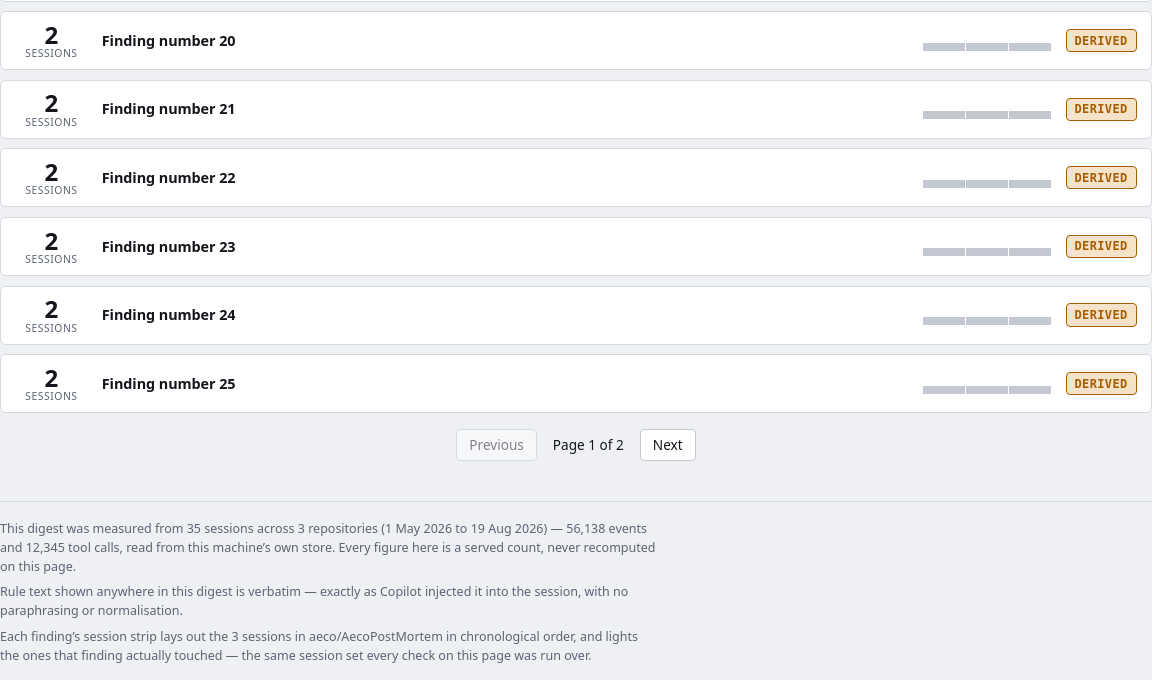
Test: DigestPage › resets to page 1 after applying a new date range
(page scrolled)
Click the button with aria-label "Next page": coordinates (668, 445) [640,429,696,461]
(page scrolled)
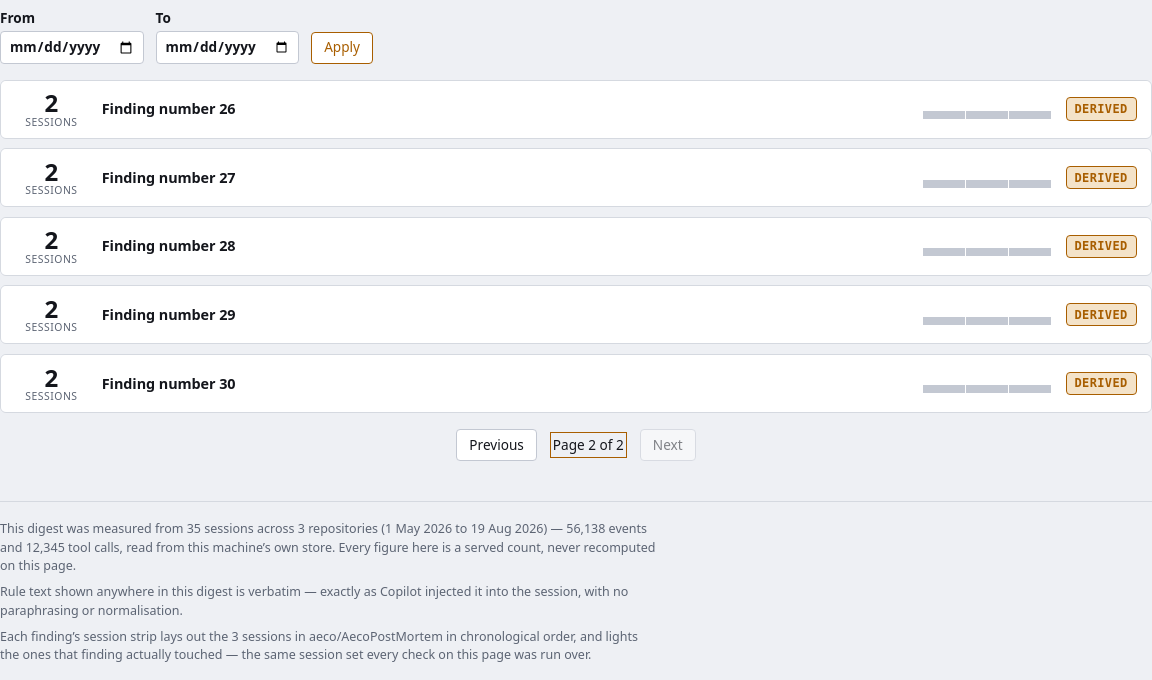
Expected: the text "Page 2 of 2" is shown, [553,435,624,455]
In the date field labelled "From": coordinates (72, 47) [0,31,144,64], type "2026-06-01"
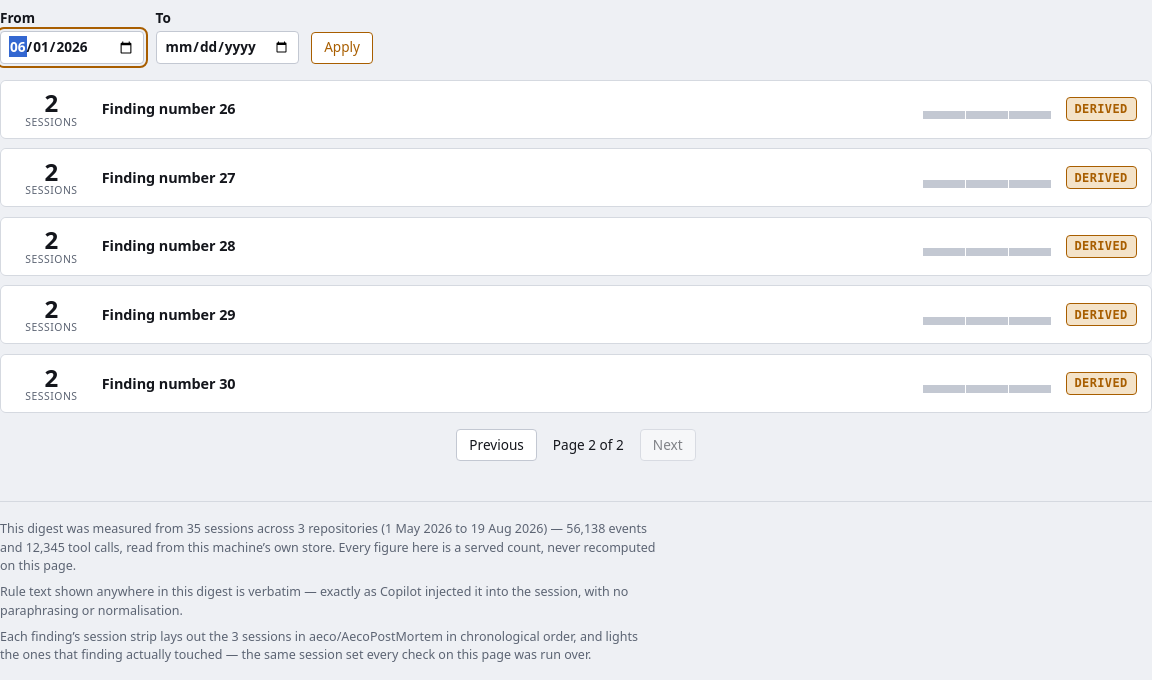
Click the button "Apply": coordinates (342, 48) [311,32,373,64]
(page scrolled)
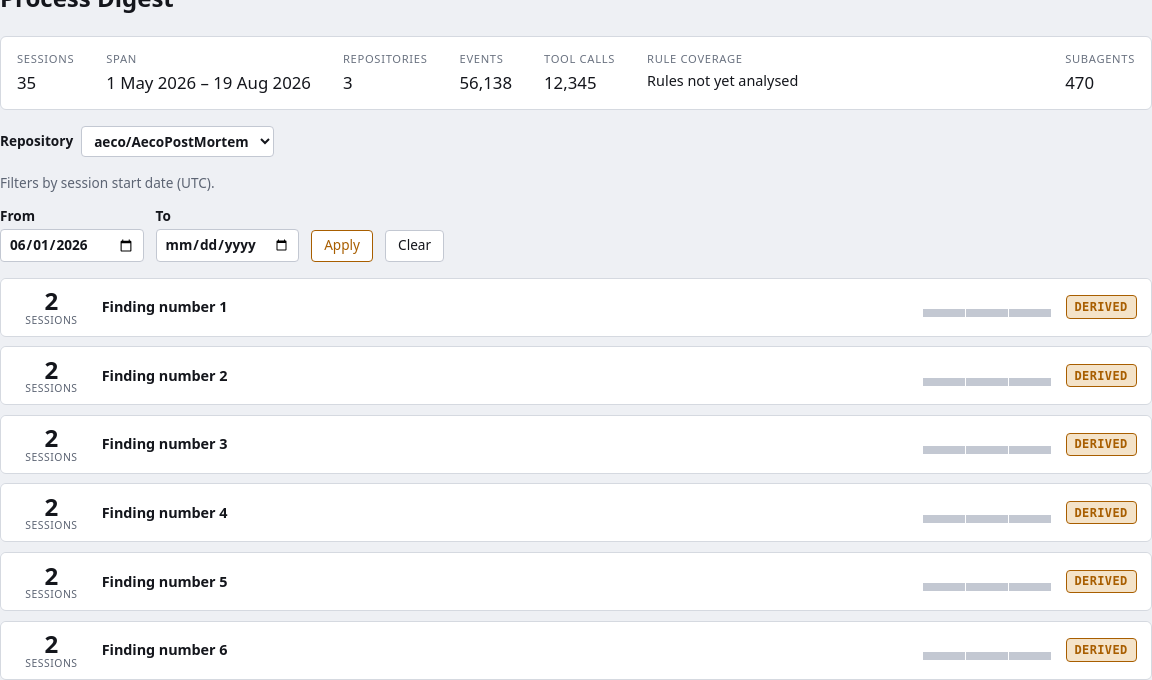
Expected: the text "Finding number 1" is shown, [102,297,227,316]
